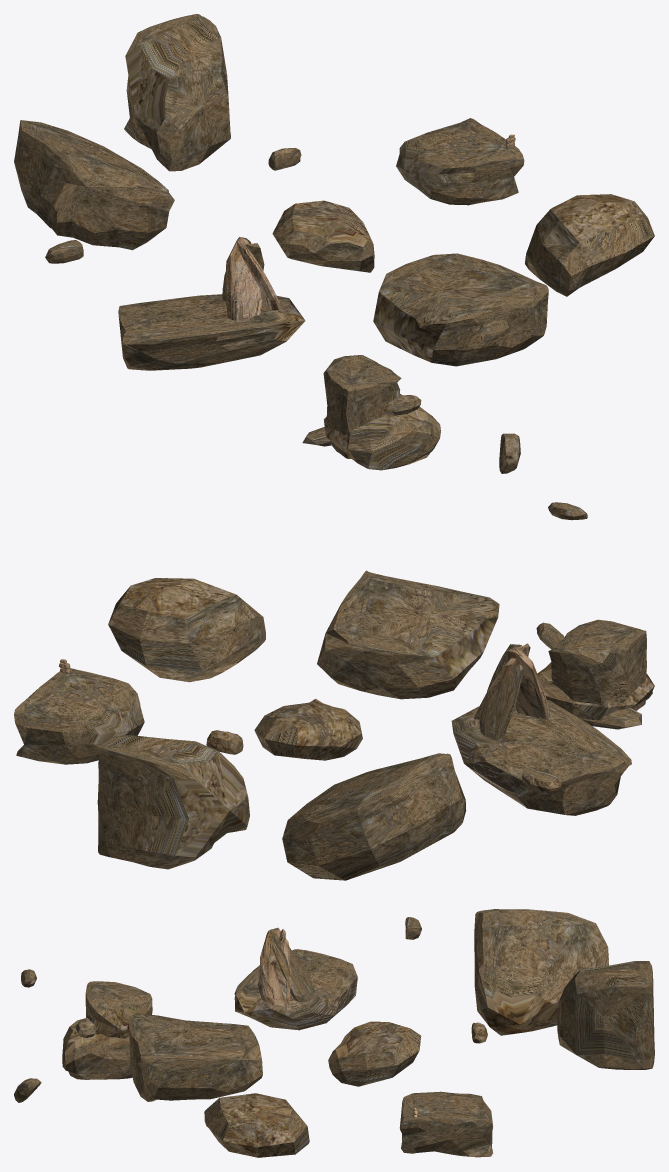
The model's file is Pedras08.fbx.
3 views of the same model, one above another, from view 1: azimuth 30°, elevation 25°; view 2: azimuth 150°, elevation 25°; view 3: azimuth 270°, elevation 25° (orthographic). The views are drawn at different scales.
Parts seen in each view (by area): view 1: Cube_cell.013, Cube_cell.012, Cube_cell.017, Cube_cell.011, Cube_cell.009, Cube_cell.008, Cube_cell.015, Cube_cell.010, Cube_cell.016, Cube_cell.002, Cube_cell.004, Cube_cell.007 (+1 smaller); view 2: Cube_cell.013, Cube_cell.017, Cube_cell.012, Cube_cell.011, Cube_cell.009, Cube_cell.008, Cube_cell.016, Cube_cell.015, Cube_cell.014, Cube_cell.010, Cube_cell.002, Cube_cell.005 (+2 smaller); view 3: Cube_cell.012, Cube_cell.013, Cube_cell.017, Cube_cell.008, Cube_cell.011, Cube_cell.009, Cube_cell.015, Cube_cell.010, Cube_cell.016, Cube_cell.004, Cube_cell.014, Cube_cell.007.
Boxes of the visible parts, x1=… form: Cube_cell.013: x1=373, y1=253, x2=548, y2=366; Cube_cell.012: x1=14, y1=120, x2=174, y2=250; Cube_cell.017: x1=124, y1=14, x2=230, y2=171; Cube_cell.011: x1=118, y1=294, x2=305, y2=370; Cube_cell.009: x1=525, y1=194, x2=654, y2=296; Cube_cell.008: x1=396, y1=118, x2=524, y2=205; Cube_cell.015: x1=272, y1=200, x2=374, y2=272; Cube_cell.010: x1=323, y1=394, x2=440, y2=470; Cube_cell.016: x1=323, y1=355, x2=401, y2=458; Cube_cell.002: x1=225, y1=237, x2=262, y2=320; Cube_cell.004: x1=237, y1=241, x2=280, y2=310; Cube_cell.007: x1=499, y1=433, x2=520, y2=473; Cube_cell.013: x1=317, y1=570, x2=499, y2=699; Cube_cell.017: x1=97, y1=735, x2=249, y2=869; Cube_cell.012: x1=282, y1=753, x2=466, y2=880; Cube_cell.011: x1=451, y1=700, x2=631, y2=815; Cube_cell.009: x1=108, y1=578, x2=265, y2=682; Cube_cell.008: x1=14, y1=668, x2=144, y2=764; Cube_cell.016: x1=548, y1=619, x2=646, y2=710; Cube_cell.015: x1=254, y1=698, x2=362, y2=760; Cube_cell.014: x1=479, y1=644, x2=523, y2=740; Cube_cell.010: x1=537, y1=662, x2=654, y2=720; Cube_cell.002: x1=505, y1=647, x2=549, y2=719; Cube_cell.005: x1=522, y1=767, x2=561, y2=793; Cube_cell.012: x1=474, y1=909, x2=608, y2=1035; Cube_cell.013: x1=129, y1=1013, x2=262, y2=1101; Cube_cell.017: x1=557, y1=961, x2=654, y2=1069; Cube_cell.008: x1=399, y1=1091, x2=493, y2=1157; Cube_cell.011: x1=234, y1=949, x2=357, y2=1030; Cube_cell.009: x1=204, y1=1093, x2=309, y2=1157; Cube_cell.015: x1=328, y1=1021, x2=421, y2=1086; Cube_cell.010: x1=62, y1=1020, x2=132, y2=1079; Cube_cell.016: x1=85, y1=981, x2=152, y2=1038; Cube_cell.004: x1=259, y1=927, x2=291, y2=1007; Cube_cell.014: x1=271, y1=933, x2=314, y2=1002; Cube_cell.007: x1=14, y1=1078, x2=41, y2=1102.
Bounding box in the file's own units: 27.37 × 35.09 × 8.8.
Materials: 5 (5 with a texture image).
